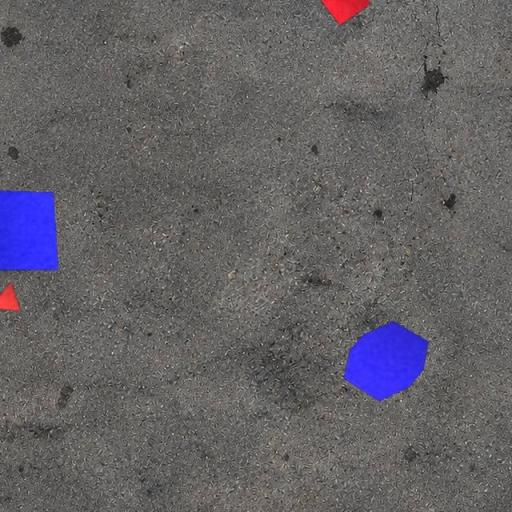BLUE_SQUARE: (0, 190, 59, 270)
RED_SQUARE: (313, 0, 372, 26)
